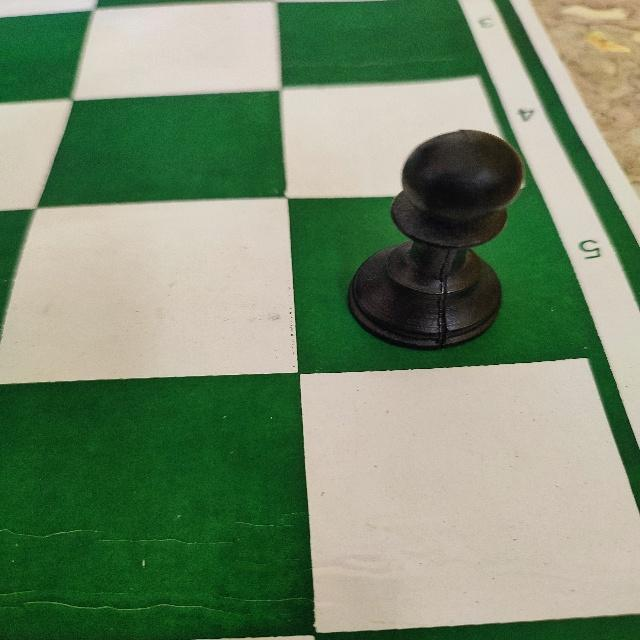Pawn: (345, 126, 526, 354)
